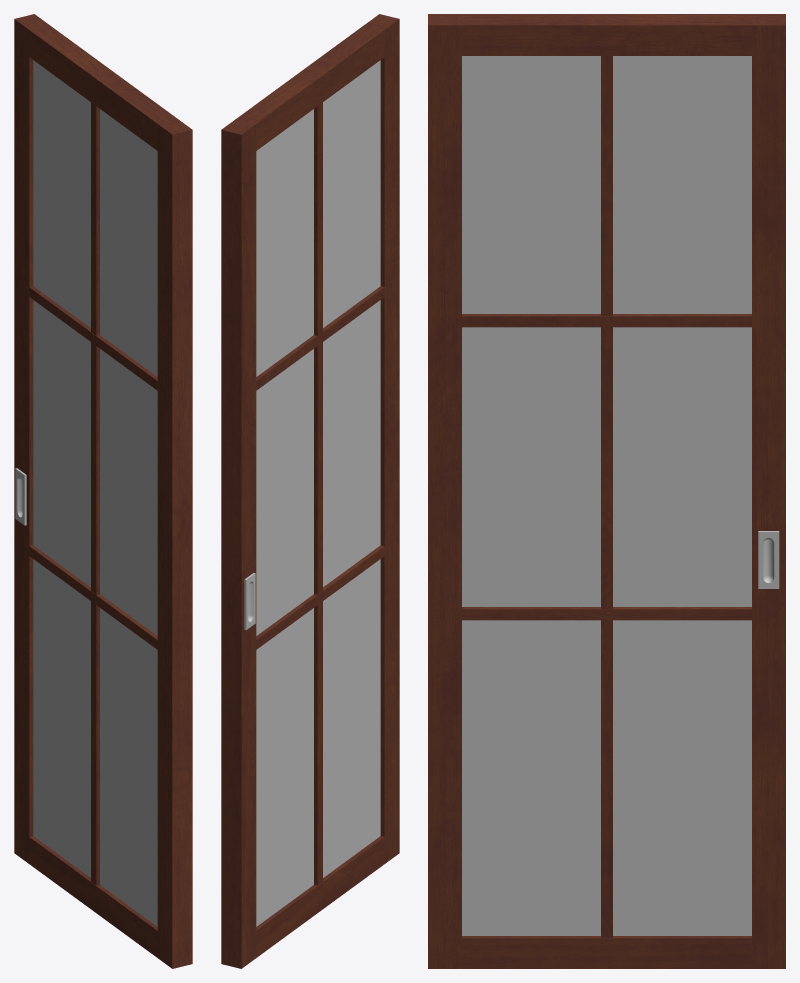
File: SM_InnerDoor01J.fbx
3 renders of one model, left to right at view 1: azimuth 30°, elevation 25°; view 2: azimuth 150°, elevation 25°; view 3: azimuth 270°, elevation 25°, orthographic. The views are drawn at different scales.
Visible parts, largest first — view 1: SM_InnerDoor01J; view 2: SM_InnerDoor01J; view 3: SM_InnerDoor01J.
Part boxes in pixels (box(x1,y1,x2,y2)): SM_InnerDoor01J: box(14, 14, 192, 968); SM_InnerDoor01J: box(221, 14, 399, 968); SM_InnerDoor01J: box(428, 14, 785, 968).
Size of the model in its own units: 5.56 by 62.8 by 183.
